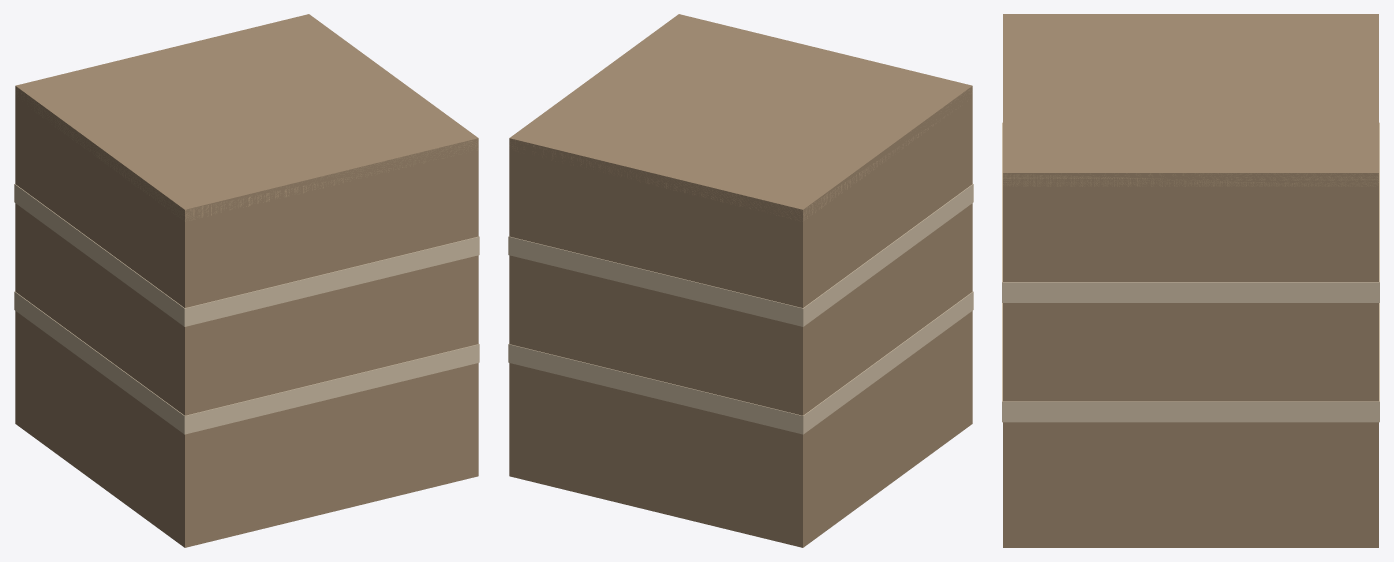
File: terrain_cardboard_l1.glb
3 views of the same model, side by side, from view 1: azimuth 30°, elevation 25°; view 2: azimuth 150°, elevation 25°; view 3: azimuth 270°, elevation 25° (orthographic). The views are drawn at different scales.
Visible parts, largest first — view 1: terrain_cardboard_l1; view 2: terrain_cardboard_l1; view 3: terrain_cardboard_l1.
Boxes of the visible parts, x1=… form: terrain_cardboard_l1: x1=14, y1=14, x2=479, y2=547; terrain_cardboard_l1: x1=508, y1=14, x2=973, y2=547; terrain_cardboard_l1: x1=1002, y1=14, x2=1379, y2=547.
Size of the model in its own units: 1 by 1.1 by 1.
